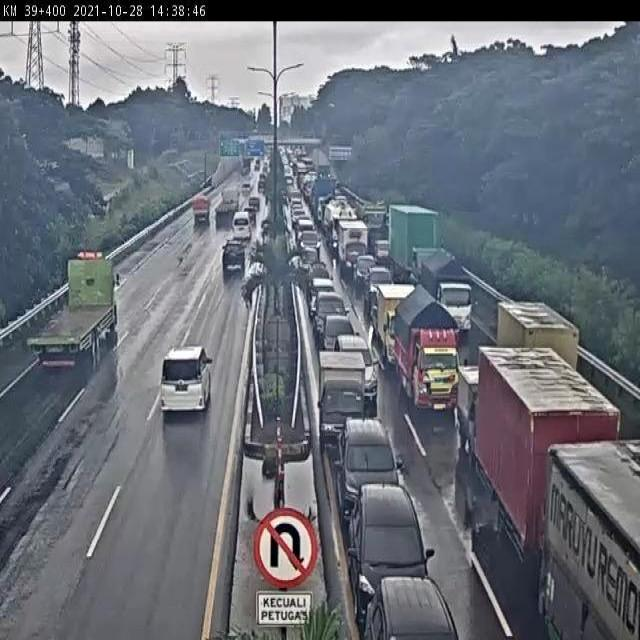big truck: (479, 345, 626, 595), (25, 249, 121, 372), (388, 205, 438, 284), (214, 184, 242, 229)
car: (349, 486, 436, 618), (335, 418, 399, 530), (363, 577, 460, 640), (159, 342, 214, 414), (335, 336, 380, 403), (319, 315, 360, 369), (312, 290, 350, 342), (367, 265, 395, 308), (309, 276, 334, 316), (221, 240, 248, 273), (355, 255, 376, 288)
small bus: (233, 211, 251, 240)
small truck: (496, 300, 579, 409), (393, 287, 462, 416), (458, 365, 521, 468), (317, 348, 369, 449), (419, 252, 479, 335), (377, 283, 420, 369), (339, 220, 369, 276), (189, 193, 211, 231)
